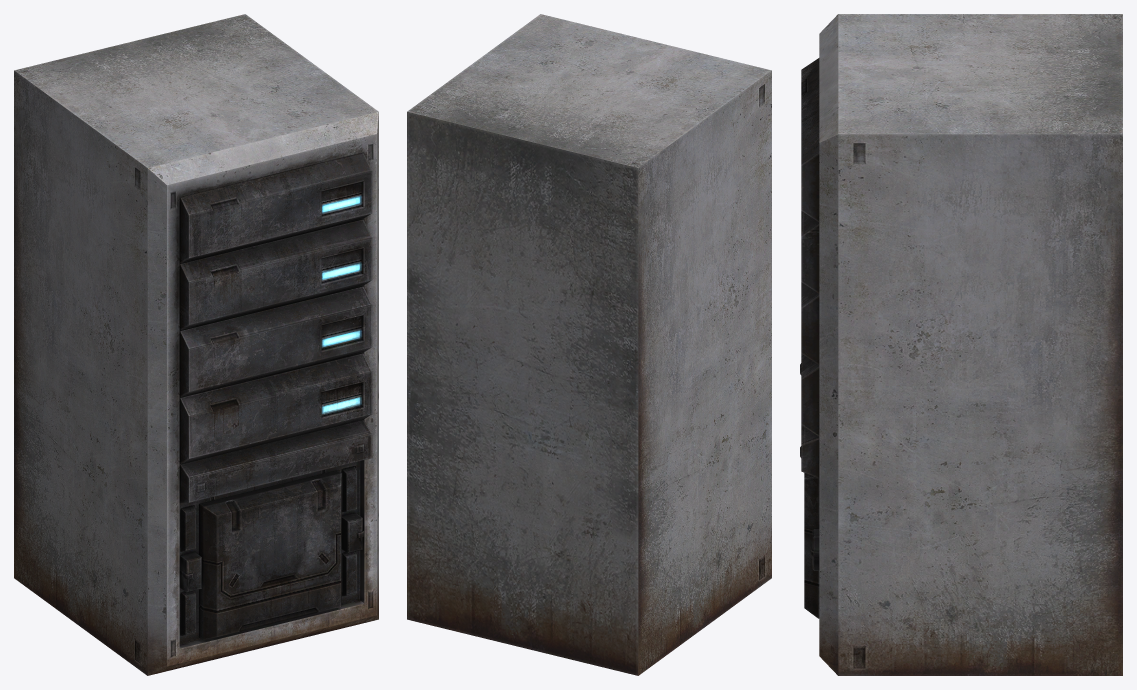
Rendered from server_theta_01.dae.
3 views of the same model, side by side, from view 1: azimuth 30°, elevation 25°; view 2: azimuth 150°, elevation 25°; view 3: azimuth 270°, elevation 25° (orthographic). The views are drawn at different scales.
Parts seen in each view (by area): view 1: server_theta_01; view 2: server_theta_01; view 3: server_theta_01.
Part boxes in pixels (x1,y1,x2,y2): server_theta_01: (14,14,378,675); server_theta_01: (407,14,771,675); server_theta_01: (800,14,1122,675).
Size of the model in its own units: 0.959 by 2.01 by 1.09.
